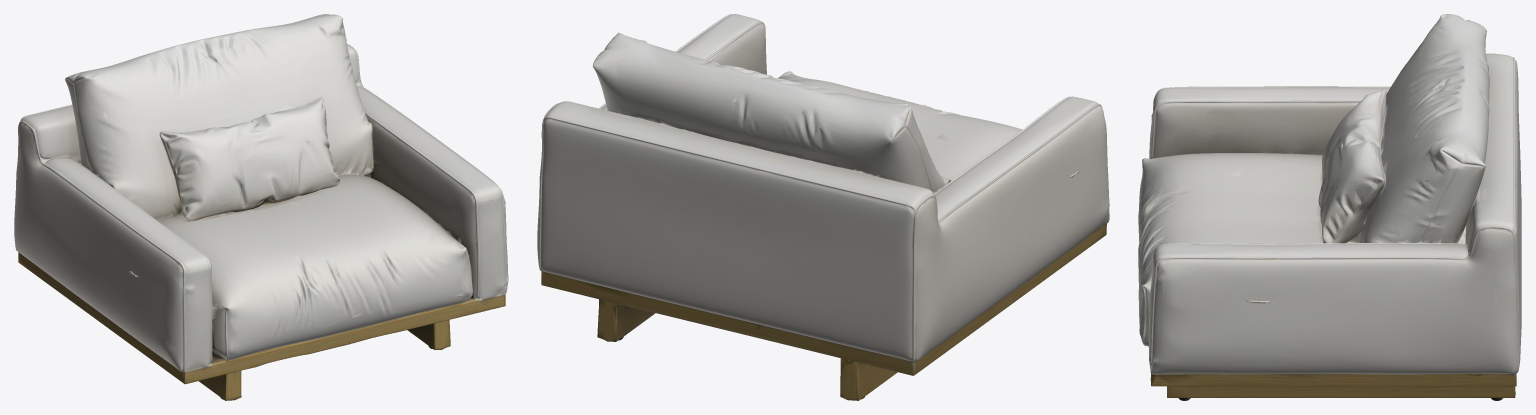
File: armchair-real-castlery-mori-performance-fabric-armchair-natural-wood.glb
3 renders of one model, left to right at view 1: azimuth 30°, elevation 25°; view 2: azimuth 150°, elevation 25°; view 3: azimuth 270°, elevation 25°, orthographic. The views are drawn at different scales.
Parts seen in each view (by area): view 1: node_0; view 2: node_0; view 3: node_0.
Part boxes in pixels (x1=…): node_0: x1=14, y1=14, x2=508, y2=400; node_0: x1=537, y1=14, x2=1109, y2=400; node_0: x1=1138, y1=14, x2=1521, y2=400.
Bounding box in the file's own units: 0.8975 × 0.5943 × 0.785.
1 material, 1 textured.
